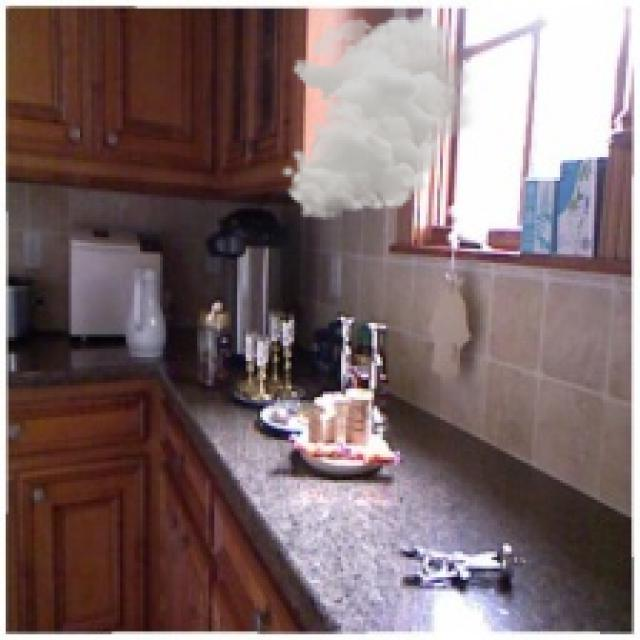smoke: (280, 11, 480, 220)
